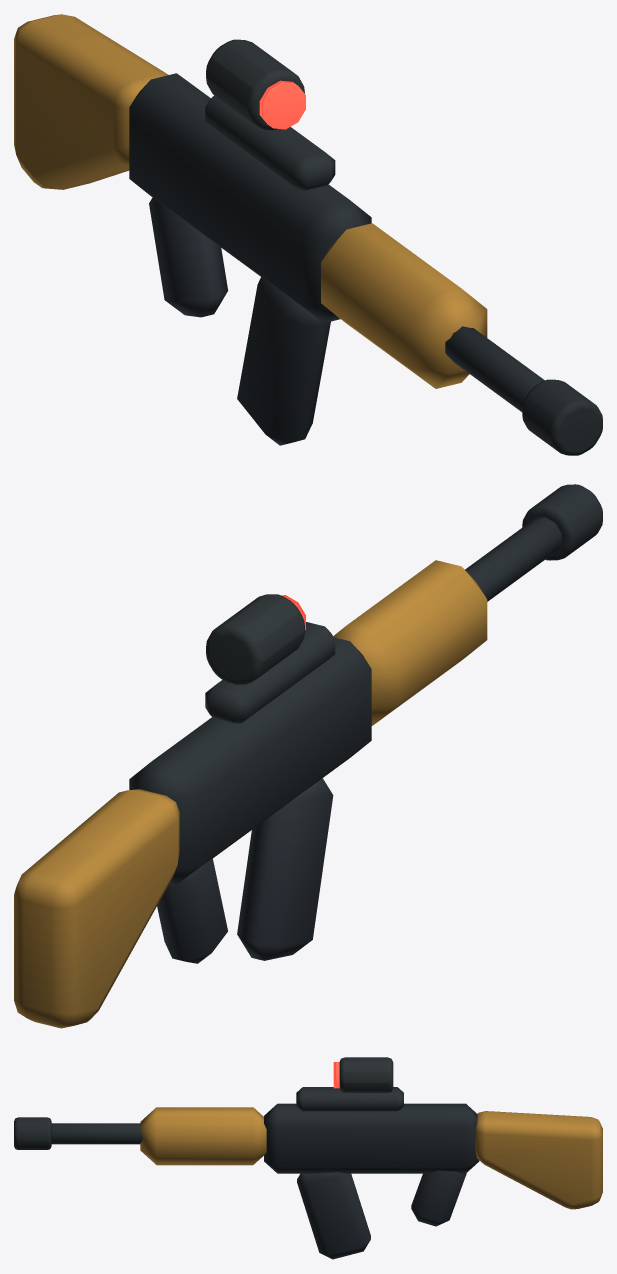
Rendered from weapon_rifle.glb.
3 renders of one model, top to bottom at view 1: azimuth 30°, elevation 25°; view 2: azimuth 150°, elevation 25°; view 3: azimuth 270°, elevation 25°, orthographic. The views are drawn at different scales.
Visible parts, largest first — view 1: Receiver.003, Stock.002, Handguard.002, Curved magazine.002, Pistol grip.003, Optic rail.002, Red dot optic.002, Muzzle brake.003, Barrel.002, Optic lens.002; view 2: Stock.002, Receiver.003, Handguard.002, Curved magazine.002, Red dot optic.002, Pistol grip.003, Optic rail.002, Barrel.002, Muzzle brake.003; view 3: Receiver.003, Stock.002, Handguard.002, Curved magazine.002, Optic rail.002, Pistol grip.003, Barrel.002, Red dot optic.002, Muzzle brake.003.
Boxes of the visible parts, left/top/right/bottom form: Receiver.003: left=129, top=73, right=371, bottom=322; Stock.002: left=14, top=14, right=168, bottom=189; Handguard.002: left=321, top=223, right=487, bottom=388; Curved magazine.002: left=237, top=277, right=330, bottom=445; Pistol grip.003: left=149, top=197, right=228, bottom=317; Optic rail.002: left=205, top=95, right=335, bottom=190; Red dot optic.002: left=206, top=39, right=304, bottom=130; Muzzle brake.003: left=522, top=379, right=602, bottom=455; Barrel.002: left=445, top=326, right=544, bottom=411; Optic lens.002: left=259, top=80, right=305, bottom=129; Stock.002: left=14, top=789, right=179, bottom=1028; Receiver.003: left=129, top=637, right=371, bottom=884; Handguard.002: left=333, top=560, right=487, bottom=725; Curved magazine.002: left=237, top=778, right=333, bottom=960; Red dot optic.002: left=206, top=594, right=304, bottom=684; Pistol grip.003: left=157, top=858, right=227, bottom=963; Optic rail.002: left=205, top=622, right=335, bottom=723; Barrel.002: left=465, top=517, right=561, bottom=601; Muzzle brake.003: left=522, top=484, right=602, bottom=560; Receiver.003: left=264, top=1103, right=479, bottom=1173; Stock.002: left=475, top=1111, right=602, bottom=1209; Handguard.002: left=140, top=1107, right=266, bottom=1165; Curved magazine.002: left=297, top=1172, right=370, bottom=1259; Optic rail.002: left=296, top=1087, right=403, bottom=1111; Pistol grip.003: left=411, top=1170, right=466, bottom=1226; Barrel.002: left=51, top=1123, right=142, bottom=1144; Red dot optic.002: left=339, top=1057, right=393, bottom=1092; Muzzle brake.003: left=14, top=1117, right=51, bottom=1149.
Bounding box in the file's own units: 0.09 × 0.4078 × 1.1.
Materials: 4 (3 with a texture image).
